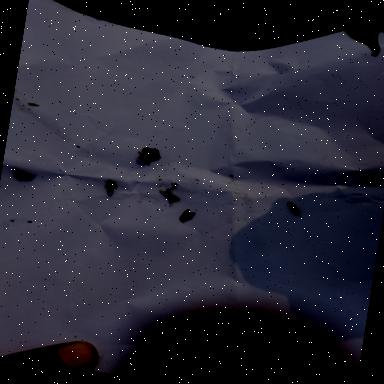pbw: (178, 208, 195, 222), (284, 200, 300, 214)
